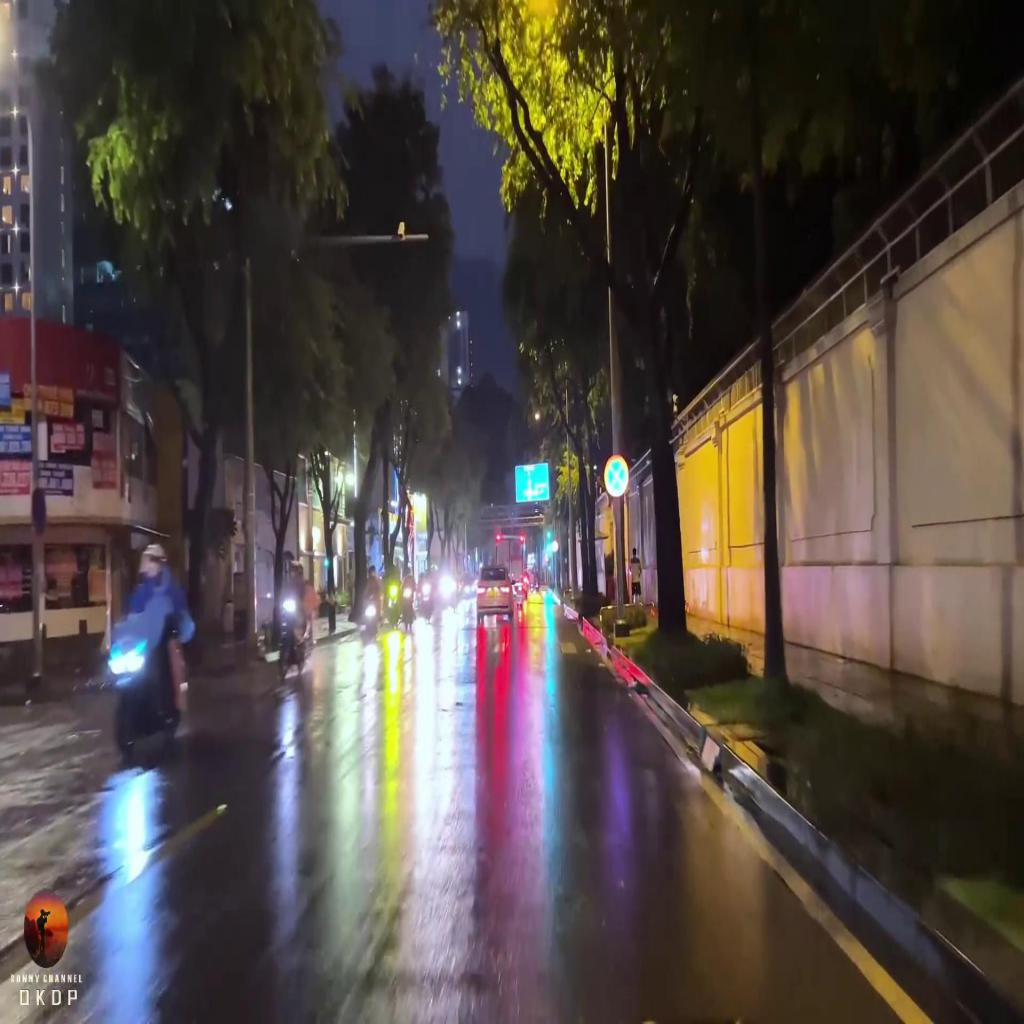cam_dung_xe_va_do_xe: (604, 454, 630, 498)
khac: (516, 464, 549, 502)
